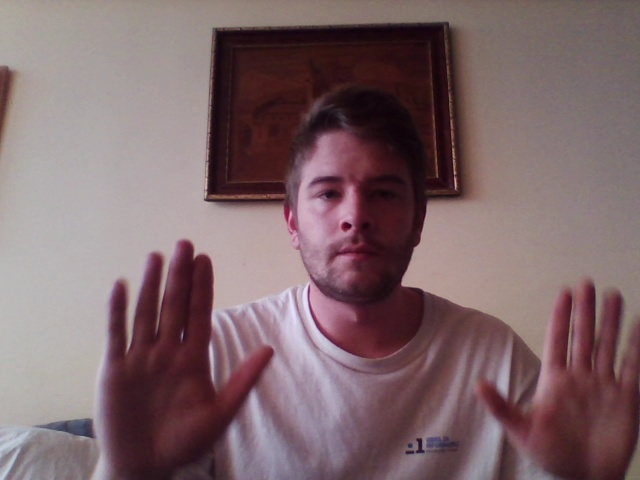prekrasno: (90, 236, 640, 480)
